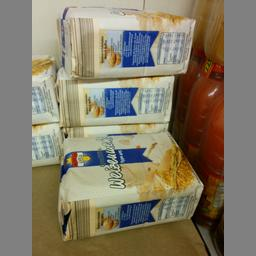flour: (56, 129, 203, 241), (56, 4, 195, 78), (55, 68, 174, 124)
